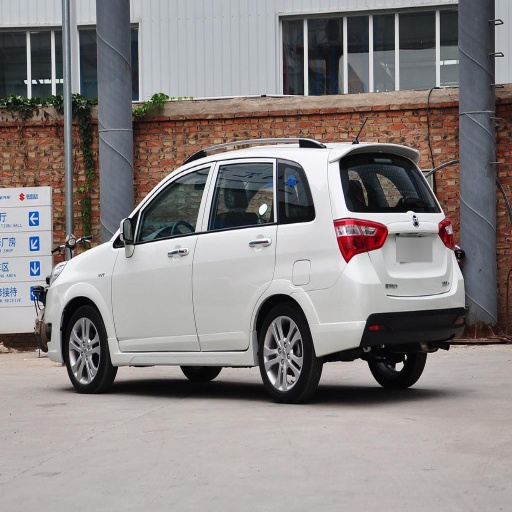back_bumper: (304, 256, 468, 357)
back_glass: (338, 155, 437, 211)
back_left_door: (192, 159, 280, 347)
tailgate: (384, 244, 434, 282)
trunk: (376, 216, 452, 293)
